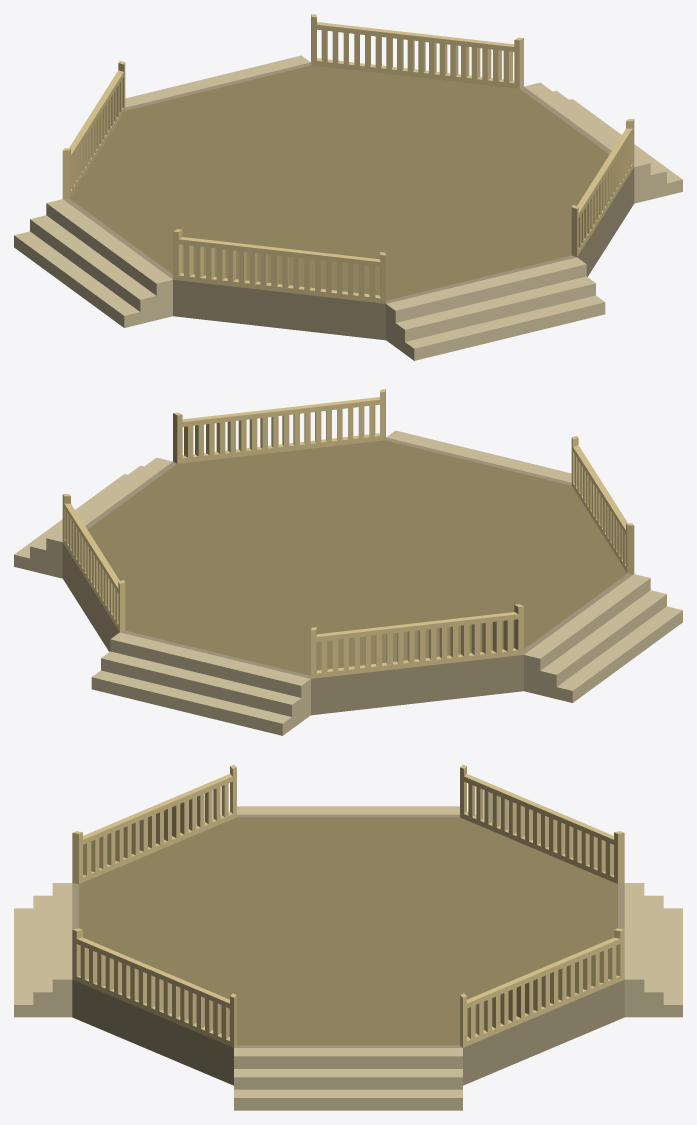
File: Set.fbx
3 renders of one model, top to bottom at view 1: azimuth 30°, elevation 25°; view 2: azimuth 150°, elevation 25°; view 3: azimuth 270°, elevation 25°, orthographic. The views are drawn at different scales.
Parts seen in each view (by area): view 1: polySurface1, pCylinder6, pCylinder2, polySurface5, polySurface8, pCylinder3, polySurface7, polySurface6, pCylinder4; view 2: polySurface1, pCylinder4, pCylinder2, polySurface6, polySurface7, pCylinder3, polySurface5, polySurface8, pCylinder6; view 3: polySurface1, pCylinder3, polySurface5, polySurface7, polySurface6, polySurface8, pCylinder4, pCylinder6, pCylinder2.
Part boxes in pixels (left/top/right/bottom): polySurface1: left=63, top=62, right=634, bottom=340; pCylinder6: left=386, top=257, right=605, bottom=360; pCylinder2: left=14, top=199, right=172, bottom=327; polySurface5: left=311, top=14, right=523, bottom=88; polySurface8: left=173, top=229, right=385, bottom=303; pCylinder3: left=524, top=82, right=682, bottom=203; polySurface7: left=571, top=119, right=634, bottom=256; polySurface6: left=62, top=61, right=125, bottom=198; pCylinder4: left=125, top=55, right=310, bottom=107; polySurface1: left=62, top=437, right=633, bottom=715; pCylinder4: left=91, top=632, right=310, bottom=735; pCylinder2: left=524, top=574, right=682, bottom=702; polySurface6: left=311, top=604, right=523, bottom=678; polySurface7: left=173, top=389, right=385, bottom=463; pCylinder3: left=14, top=457, right=172, bottom=578; polySurface5: left=62, top=494, right=125, bottom=631; polySurface8: left=571, top=436, right=634, bottom=573; pCylinder6: left=386, top=430, right=571, bottom=482; polySurface1: left=72, top=814, right=624, bottom=1085; pCylinder3: left=234, top=1048, right=462, bottom=1110; polySurface5: left=460, top=928, right=624, bottom=1047; polySurface7: left=72, top=928, right=236, bottom=1047; polySurface6: left=460, top=764, right=624, bottom=883; polySurface8: left=72, top=764, right=236, bottom=883; pCylinder4: left=624, top=883, right=682, bottom=1017; pCylinder6: left=14, top=883, right=72, bottom=1017; pCylinder2: left=237, top=806, right=459, bottom=814.
Bounding box in the file's own units: 91.15 × 13.22 × 91.15.
